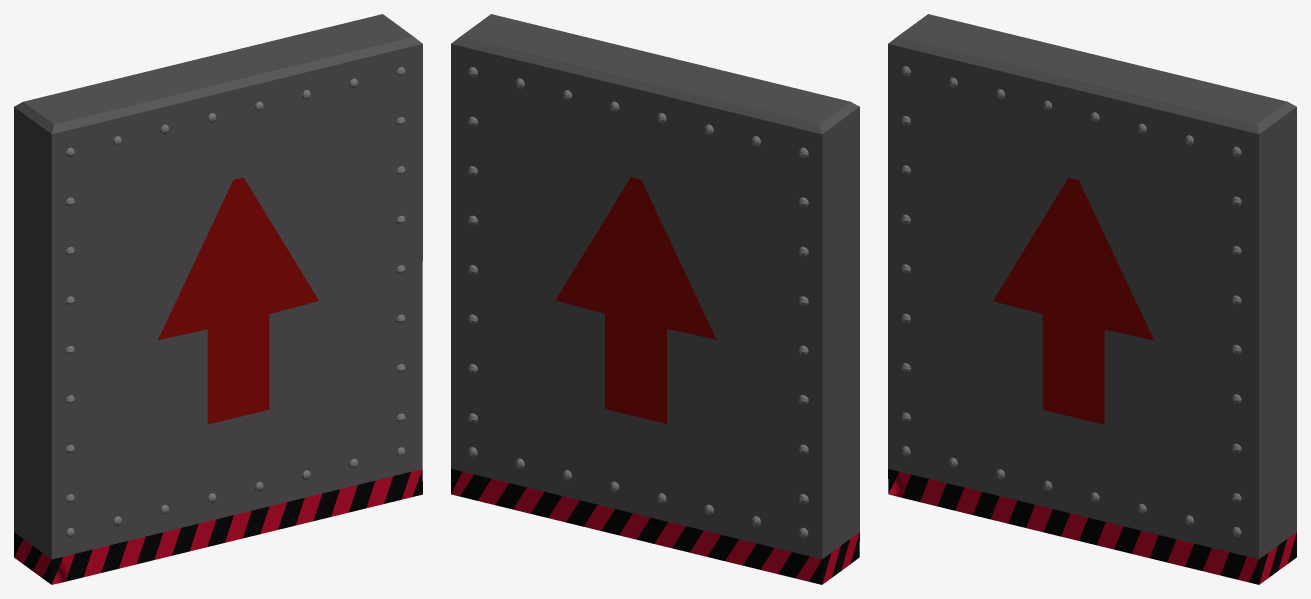
Rendered from MetalWallRedDown.glb.
The picture shows the model from 3 angles, left to right: view 1: azimuth 30°, elevation 25°; view 2: azimuth 150°, elevation 25°; view 3: azimuth 330°, elevation 25°; orthographic projection.
Parts seen in each view (by area): view 1: Cube.001, Plane.003; view 2: Cube.001, Plane.002; view 3: Cube.001, Plane.003.
Boxes of the visible parts, left/top/right/bottom form: Cube.001: left=14, top=14, right=422, bottom=584; Plane.003: left=158, top=177, right=318, bottom=424; Cube.001: left=451, top=14, right=859, bottom=584; Plane.002: left=555, top=177, right=716, bottom=423; Cube.001: left=888, top=14, right=1296, bottom=584; Plane.003: left=993, top=177, right=1153, bottom=424.
Bounding box in the file's own units: 1.92 × 2.25 × 0.3747.
